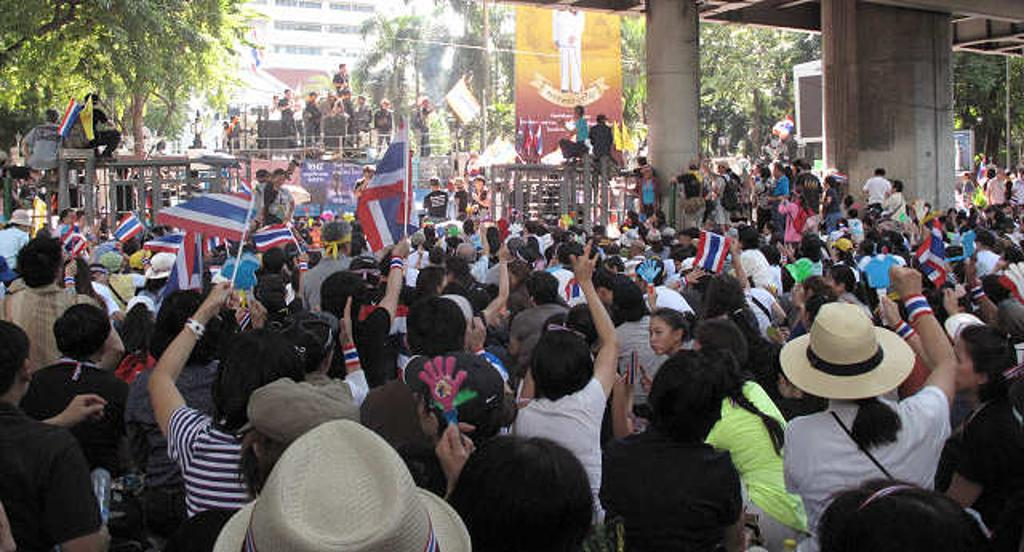face: (952, 349, 978, 390), (650, 321, 677, 355), (599, 286, 613, 312), (829, 277, 842, 296), (65, 213, 74, 224), (277, 176, 285, 185), (476, 182, 484, 191), (329, 98, 334, 106), (360, 97, 365, 103), (345, 94, 350, 99), (286, 92, 290, 98), (342, 67, 346, 73), (312, 96, 315, 102), (233, 119, 237, 123), (237, 125, 240, 128)
